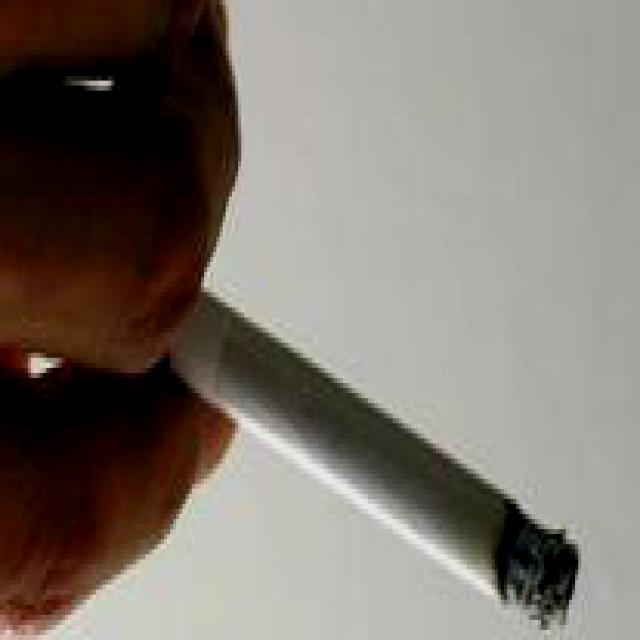cigarette: (132, 278, 579, 636)
